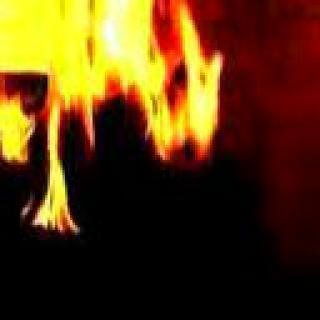fire: (0, 0, 214, 160)
